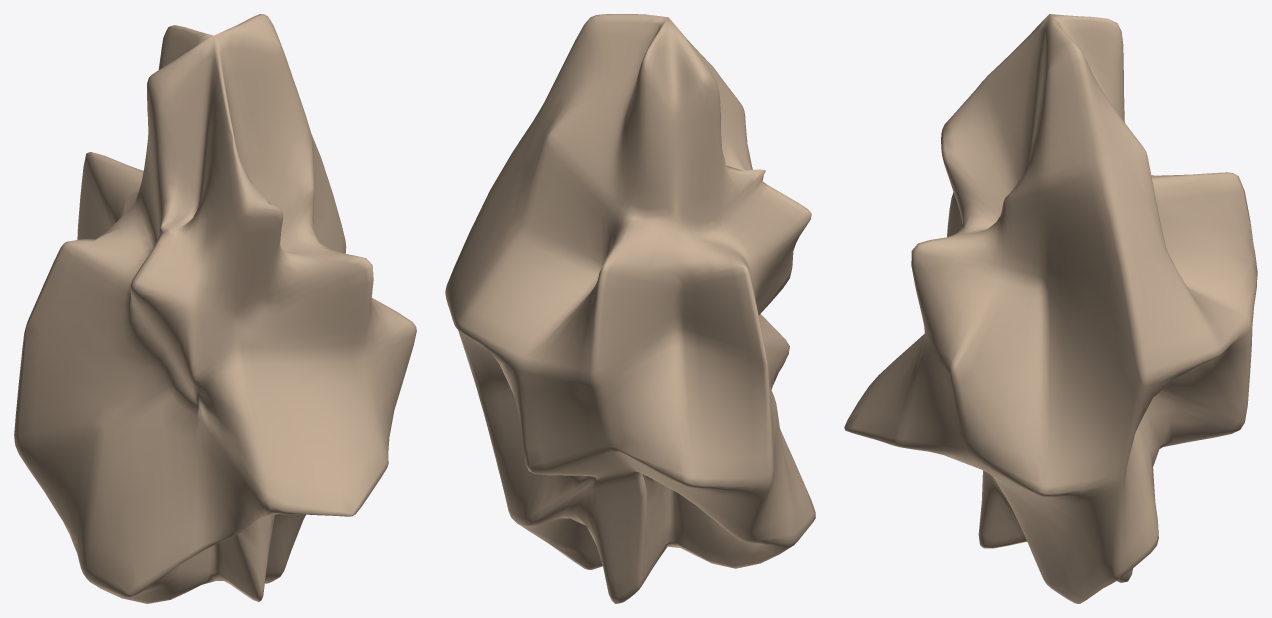
The model's file is PROP_PineCone_v0.glb.
3 views of the same model, side by side, from view 1: azimuth 30°, elevation 25°; view 2: azimuth 150°, elevation 25°; view 3: azimuth 270°, elevation 25° (orthographic). The views are drawn at different scales.
Visible parts, largest first — view 1: PROP_PineCone_v0; view 2: PROP_PineCone_v0; view 3: PROP_PineCone_v0.
Boxes of the visible parts, x1,y1,x2,y2 form: PROP_PineCone_v0: (14, 14, 416, 603); PROP_PineCone_v0: (445, 14, 815, 603); PROP_PineCone_v0: (844, 14, 1257, 603).
Size of the model in its own units: 0.4584 by 0.7605 by 0.5069.
